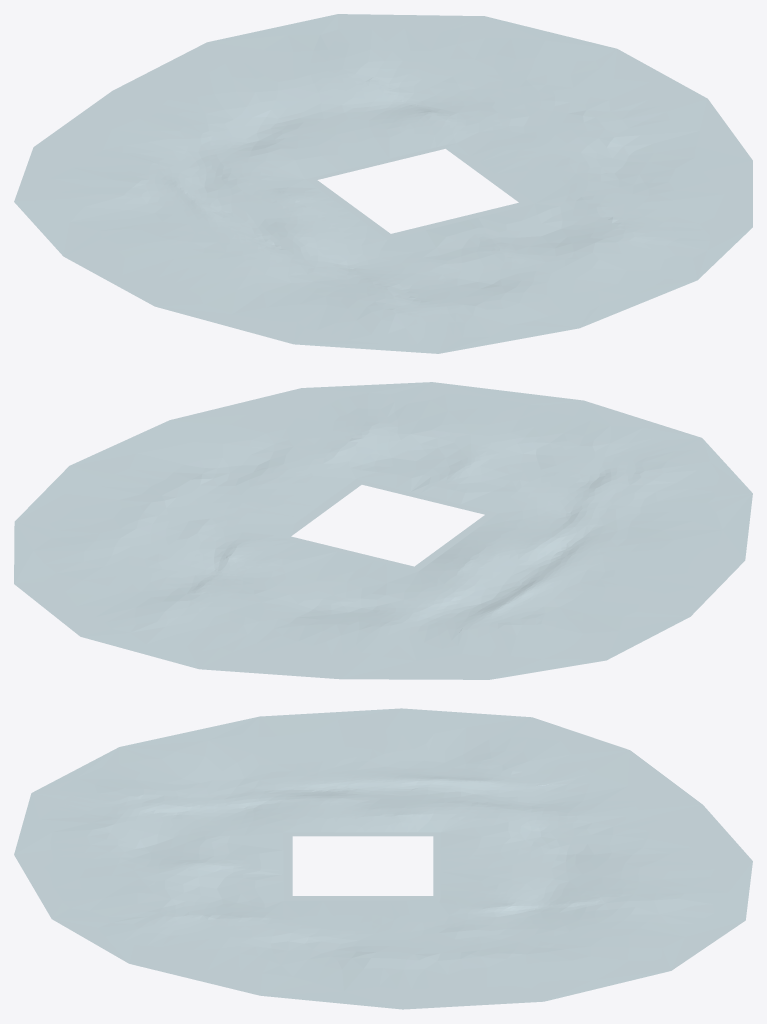
The model's file is AthniasMainGround.dae.
3 renders of one model, top to bottom at view 1: azimuth 30°, elevation 25°; view 2: azimuth 150°, elevation 25°; view 3: azimuth 270°, elevation 25°, orthographic. The views are drawn at different scales.
Parts seen in each view (by area): view 1: AthniasMainGround1; view 2: AthniasMainGround1; view 3: AthniasMainGround1.
Boxes of the visible parts, x1=… form: AthniasMainGround1: x1=14, y1=14, x2=752, y2=353; AthniasMainGround1: x1=14, y1=382, x2=752, y2=679; AthniasMainGround1: x1=14, y1=708, x2=752, y2=1009.
Size of the model in its own units: 5719 by 5931 by 42.76.
